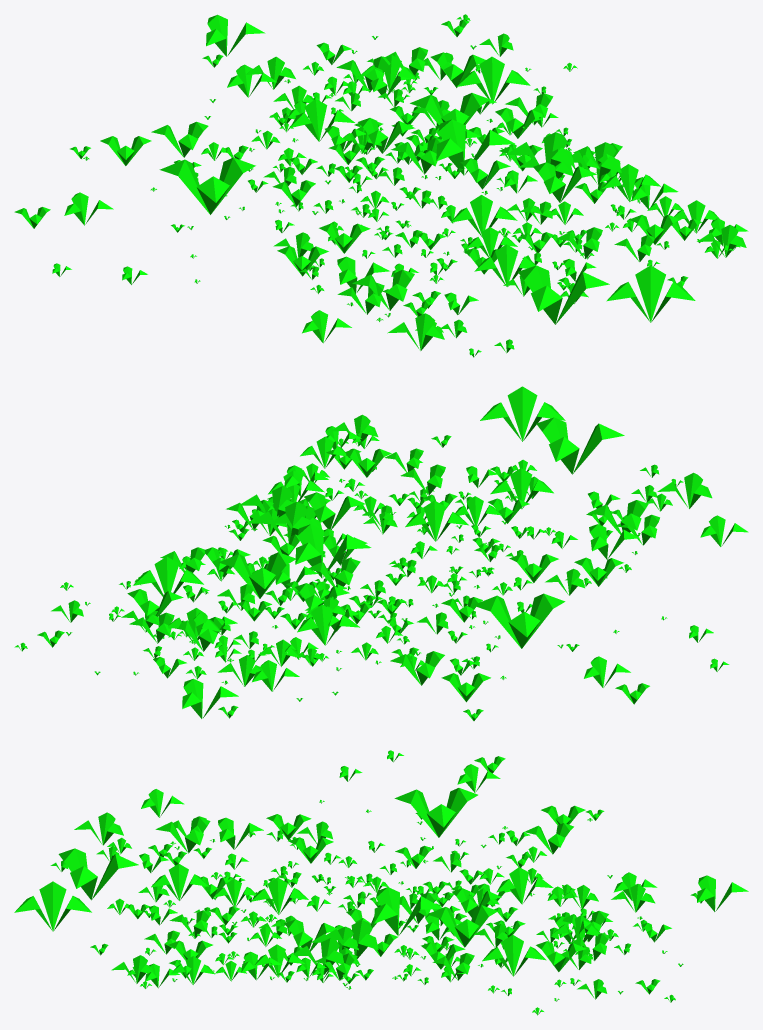
File: plants-0.obj
3 views of the same model, one above another, from view 1: azimuth 30°, elevation 25°; view 2: azimuth 150°, elevation 25°; view 3: azimuth 270°, elevation 25° (orthographic). The views are drawn at different scales.
Visible parts, largest first — view 1: mesh-1; view 2: mesh-1; view 3: mesh-1.
Boxes of the visible parts, x1,y1,x2,y2 form: mesh-1: (14, 14, 748, 357); mesh-1: (14, 386, 748, 720); mesh-1: (14, 750, 748, 1015).
Bounding box in the file's own units: 16.25 × 1.3 × 19.47.
